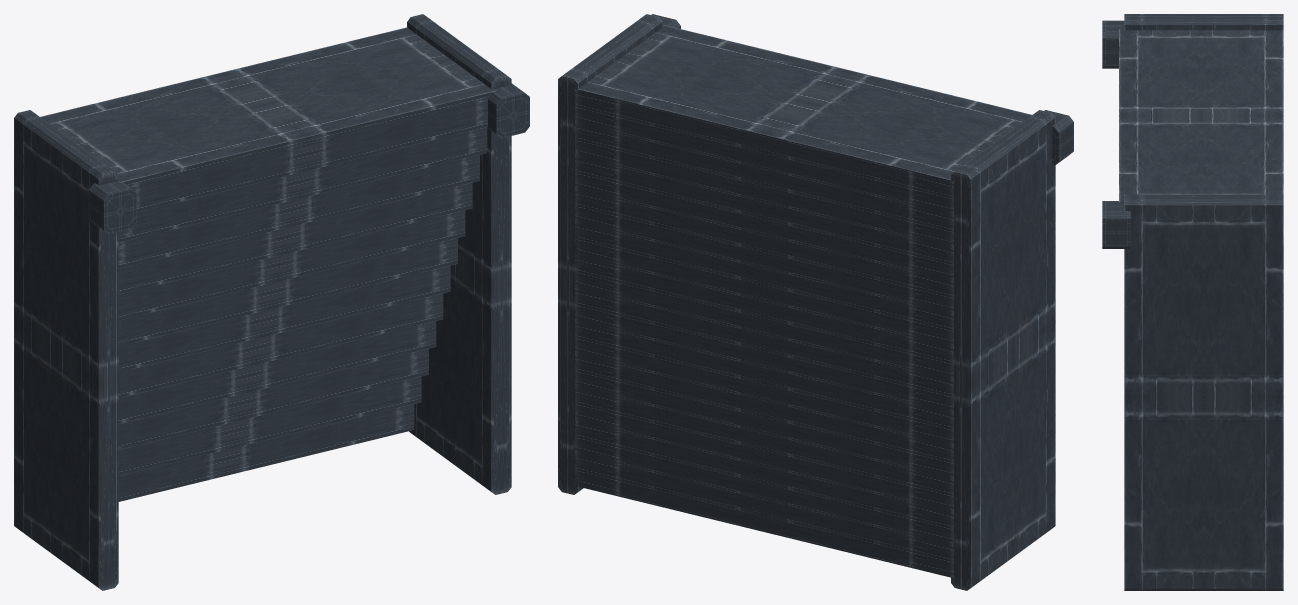
File: rv_ruin_stairs.obj
The picture shows the model from 3 angles, left to right: view 1: azimuth 30°, elevation 25°; view 2: azimuth 150°, elevation 25°; view 3: azimuth 270°, elevation 25°; orthographic projection. The views are drawn at different scales.
Visible parts, largest first — view 1: rv_ruin_stairs; view 2: rv_ruin_stairs; view 3: rv_ruin_stairs.
Part boxes in pixels (bbox=[...]): rv_ruin_stairs: bbox=[14, 14, 529, 590]; rv_ruin_stairs: bbox=[558, 14, 1073, 590]; rv_ruin_stairs: bbox=[1102, 14, 1283, 590].
Size of the model in its own units: 9 by 8.4 by 3.53.
1 material, 1 textured.
